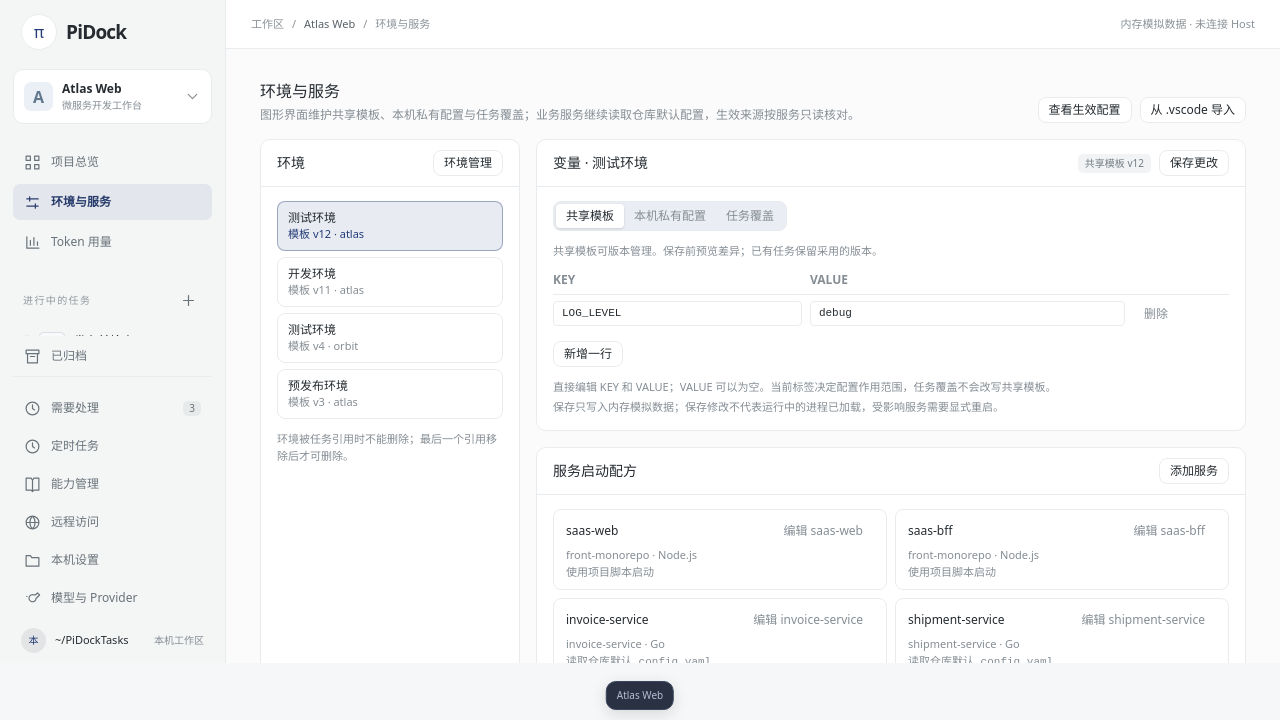
Scenario: environment scope editing › shows a KEY rename as a removal plus an addition in the review dialog
Expected: the heading "环境与服务" is shown, [260,80,340,102]
Replace the text in the field named "第 1 行 KEY" with "LOG_LEVEL_V2" at (677, 314), box [553,301,802,326]
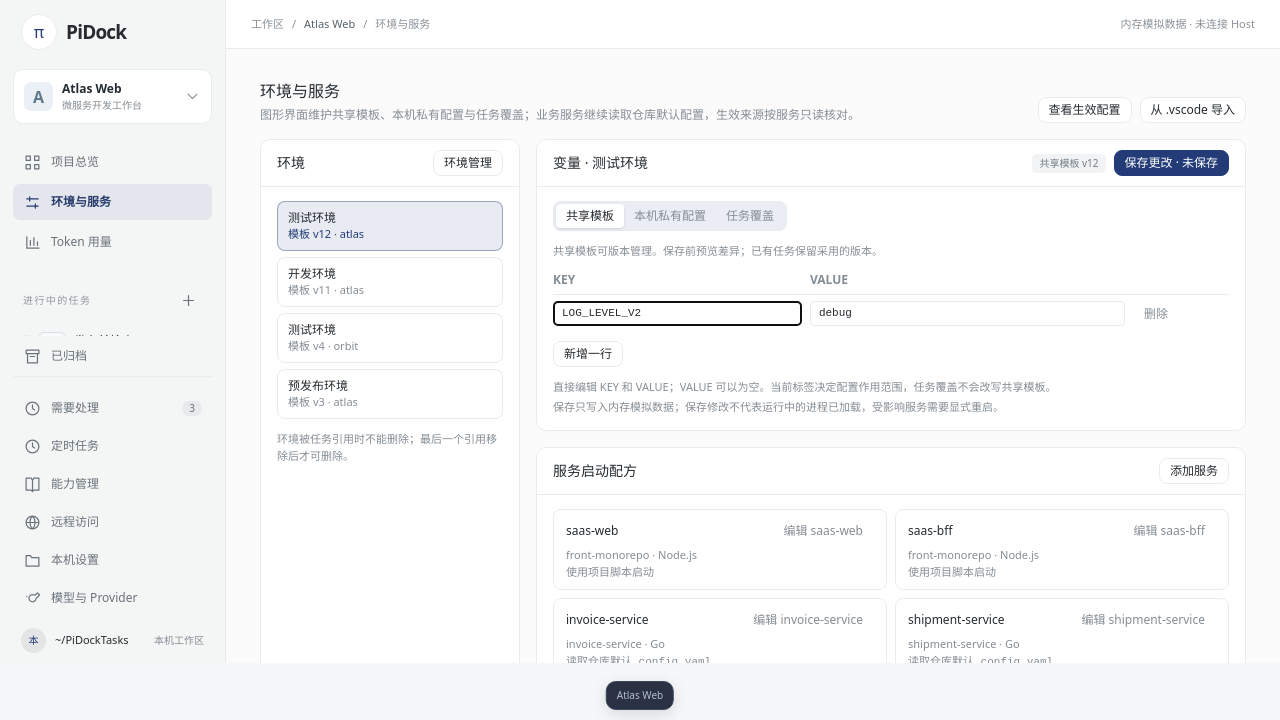
Click the button "保存更改 · 未保存" at (1171, 163), box [1114,150,1229,176]
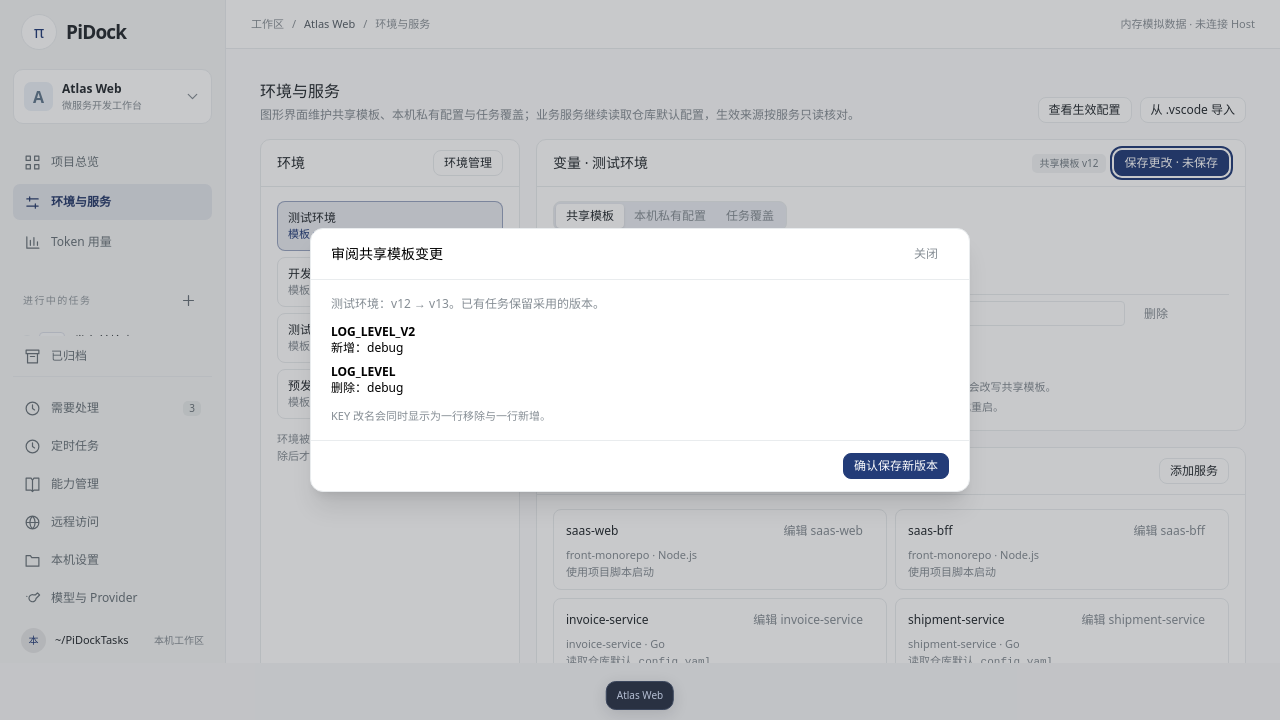
Expected: the text "LOG_LEVEL_V2新增：debug" is shown, [331,323,415,356]
Expected: the text "删除：debug" is shown, [331,363,403,396]
